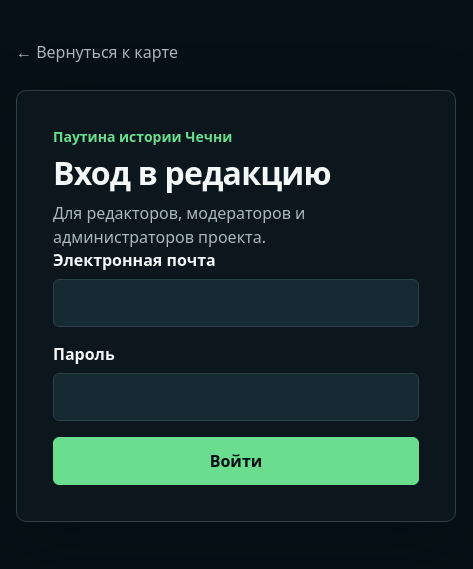
Test case: shows stable backend authentication and authorization failures
This screenshot has width=473, height=569.
Step 1. Type "admin@museum.test" into the field labelled "Электронная почта" → (236, 303), box [53, 279, 419, 327]
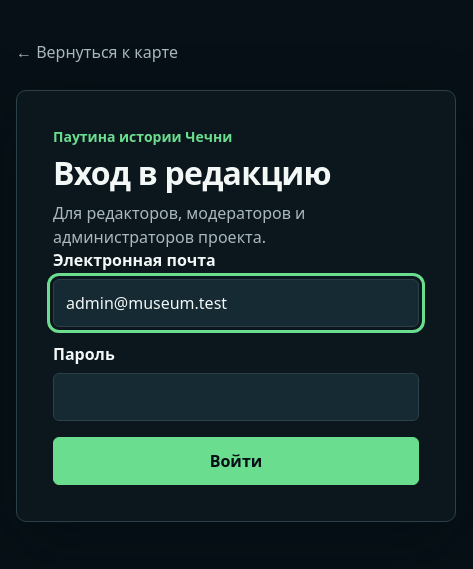
Step 2. Type "long museum password" into the password field labelled "Пароль" → (236, 397), box [53, 373, 419, 421]
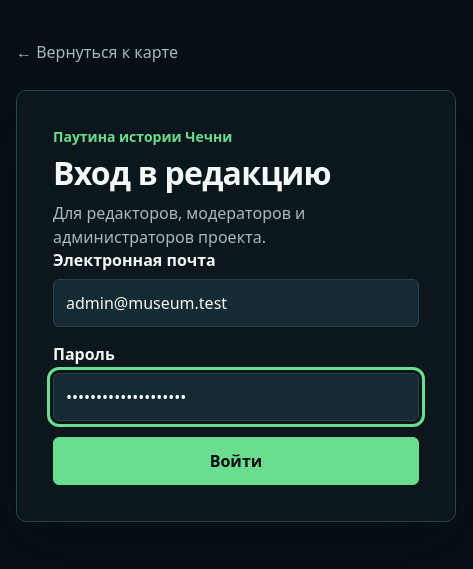
Step 3. Click the button "Войти" → (236, 461), box [53, 437, 419, 485]
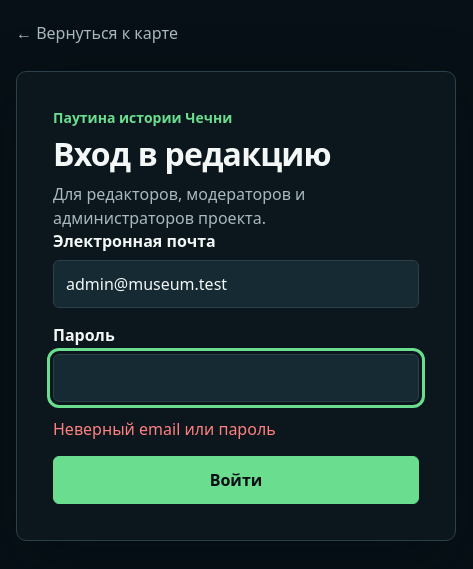
Expected: the text "Неверный email или пароль" is shown, [53, 418, 276, 440]
Expected: the password field labelled "Пароль" is empty
Step 4. Type "long museum password" into the password field labelled "Пароль" → (236, 378), box [53, 354, 419, 402]
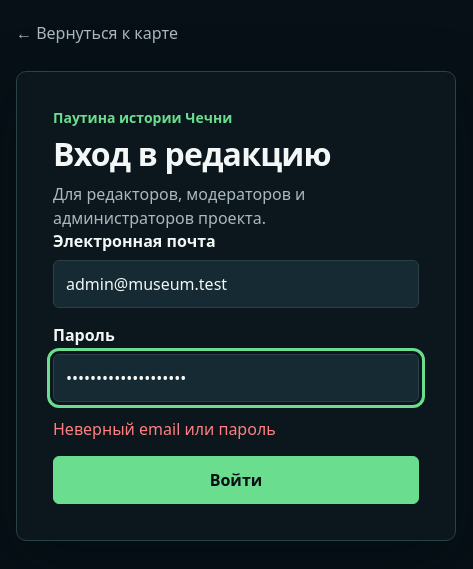
Step 5. Click the button "Войти" → (236, 480), box [53, 456, 419, 504]
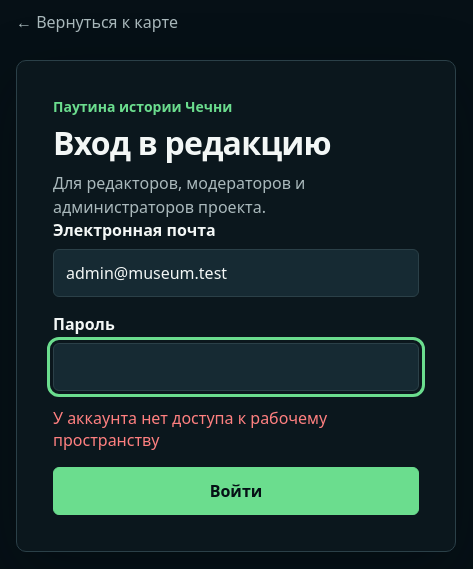
Expected: the text "У аккаунта нет доступа к рабочему пространству" is shown, [53, 407, 327, 451]
